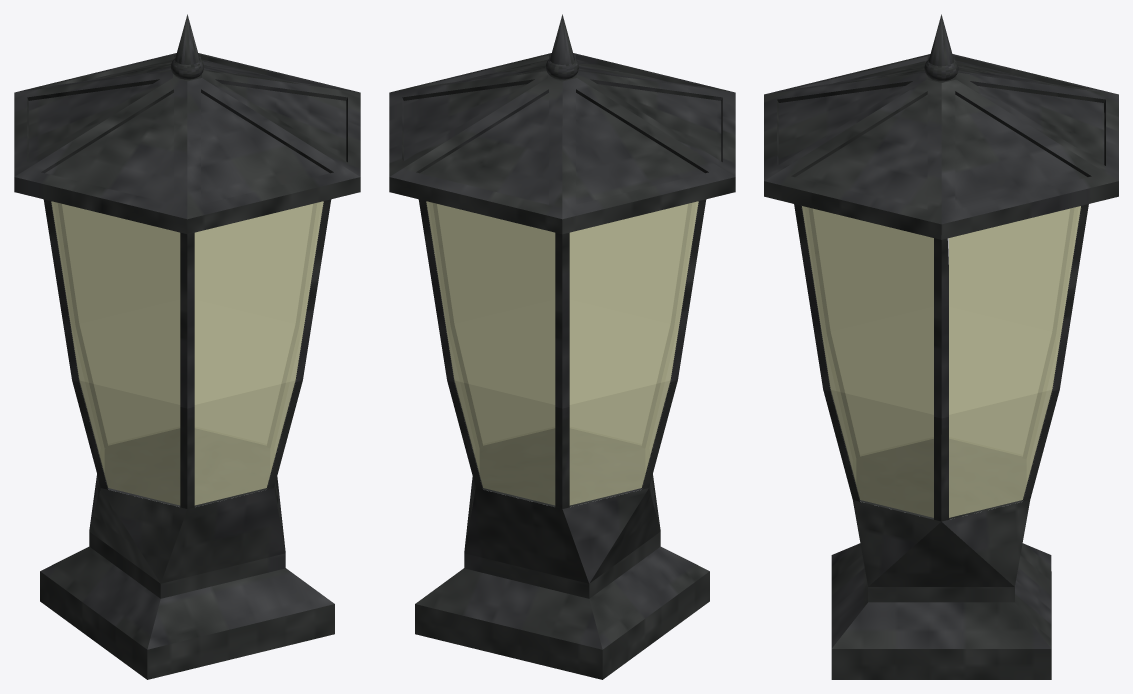
The picture shows the model from 3 angles, left to right: view 1: azimuth 30°, elevation 25°; view 2: azimuth 150°, elevation 25°; view 3: azimuth 270°, elevation 25°; orthographic projection. The views are drawn at different scales.
Visible parts, largest first — view 1: mesh2-geometry-1, mesh2-geometry-2, mesh2-geometry-3, mesh1-geometry-0; view 2: mesh2-geometry-1, mesh2-geometry-2, mesh2-geometry-3, mesh1-geometry-0; view 3: mesh2-geometry-1, mesh2-geometry-2, mesh2-geometry-3, mesh1-geometry-0.
Part boxes in pixels (<box>): mesh2-geometry-1: <box>14,53,360,679</box>; mesh2-geometry-2: <box>51,201,323,505</box>; mesh2-geometry-3: <box>51,201,323,504</box>; mesh1-geometry-0: <box>171,14,203,79</box>; mesh2-geometry-1: <box>389,53,735,679</box>; mesh2-geometry-2: <box>426,201,698,505</box>; mesh2-geometry-3: <box>426,201,698,504</box>; mesh1-geometry-0: <box>546,14,578,79</box>; mesh2-geometry-1: <box>764,54,1118,679</box>; mesh2-geometry-2: <box>802,206,1080,517</box>; mesh2-geometry-3: <box>802,206,1080,517</box>; mesh1-geometry-0: <box>924,14,958,81</box>.
Size of the model in its own units: 0.47 by 0.7832 by 0.407.
Materials: 4 (1 with a texture image).
